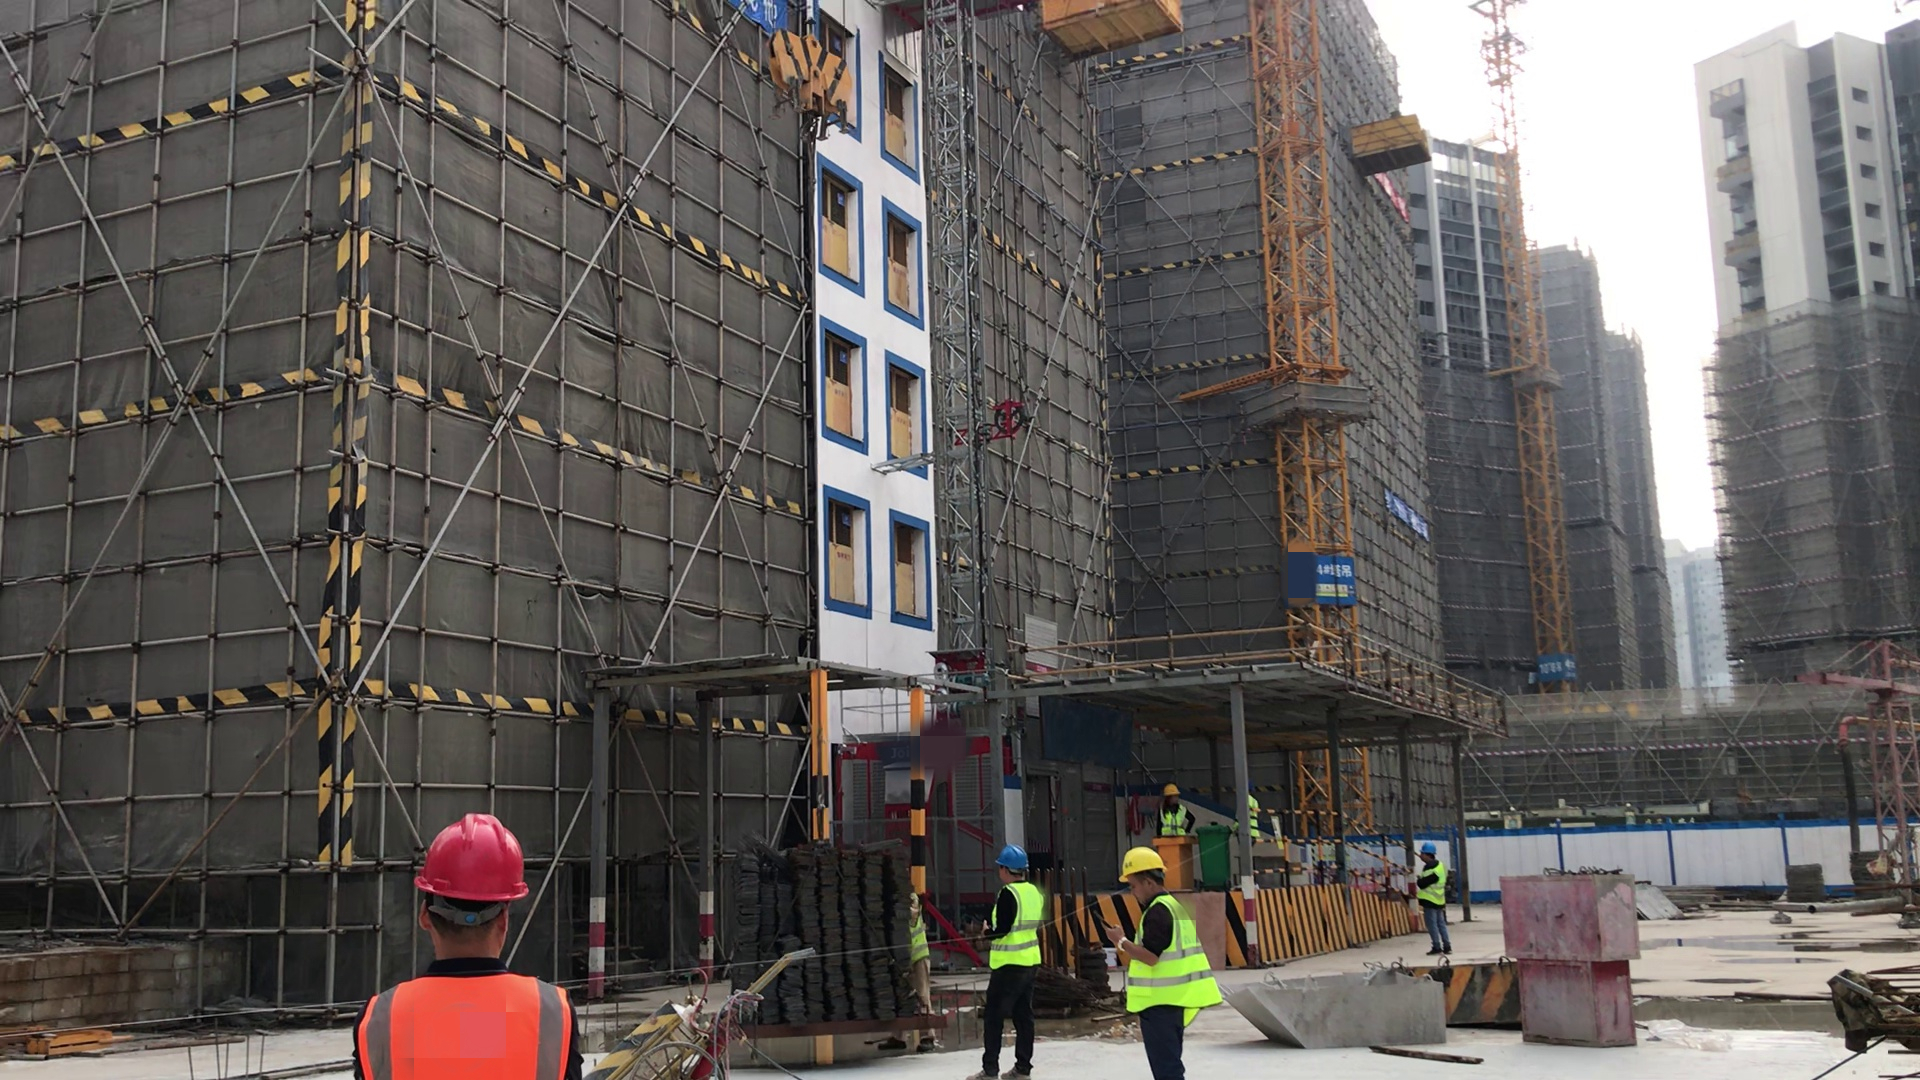helmet: (413, 809, 532, 900), (1116, 845, 1170, 885), (993, 840, 1033, 875), (1163, 783, 1182, 800), (1422, 843, 1438, 854)
person: (350, 807, 590, 1080), (1094, 840, 1229, 1080), (963, 842, 1047, 1080), (902, 873, 945, 1055), (1410, 838, 1455, 956), (1155, 779, 1195, 856), (1228, 776, 1260, 851)
vest: (360, 975, 568, 1074), (1107, 893, 1218, 1025), (995, 878, 1046, 981)
